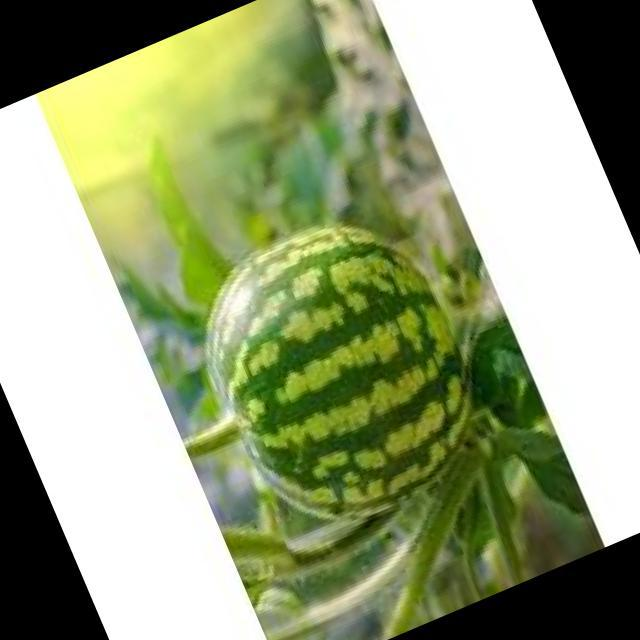watermelon: (215, 233, 459, 518)
